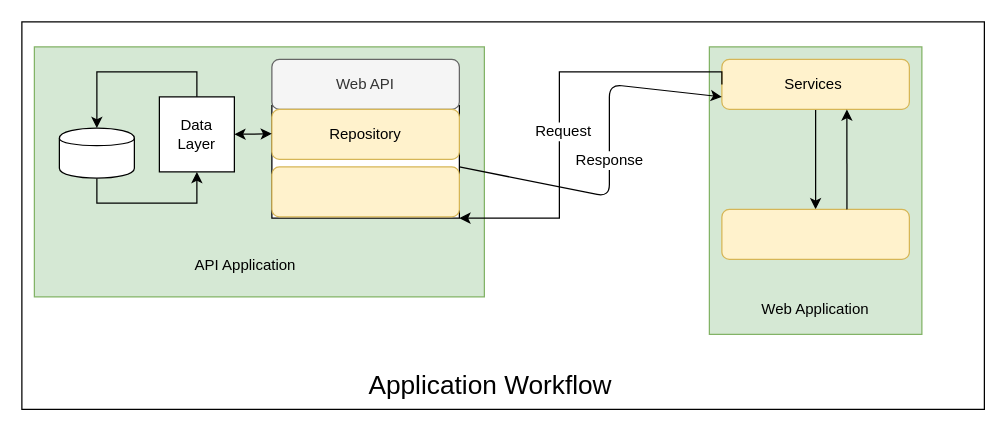
This 1006x431 diagram has some shape labels left out. Here are the shapes that lost their labels. From the top down, the box of each, then its label:
(271, 166, 459, 217): Controller
(721, 208, 909, 259): UI Component
